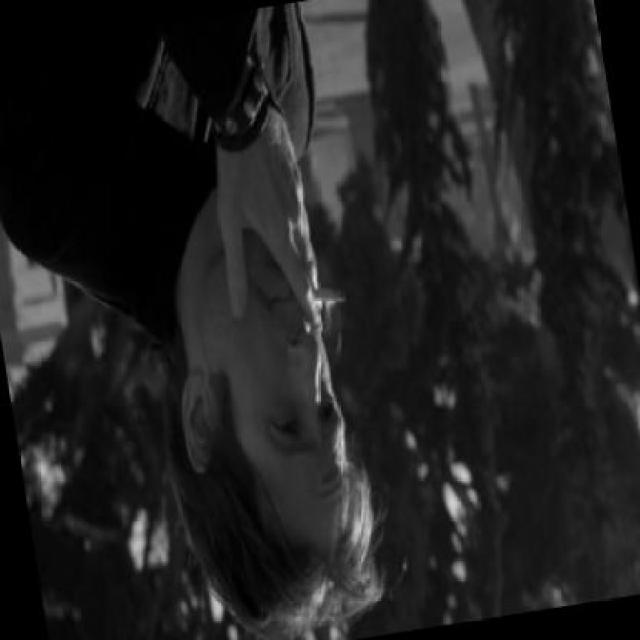smoke: (220, 138, 348, 308)
